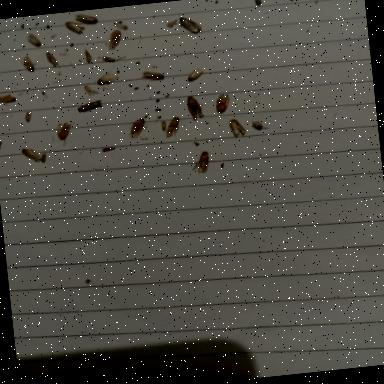pbw: (185, 94, 204, 122), (190, 150, 210, 176), (178, 15, 202, 36), (101, 28, 122, 52), (21, 146, 47, 164), (162, 115, 182, 138), (126, 117, 146, 140), (213, 92, 232, 114), (95, 69, 120, 85), (64, 19, 86, 36), (228, 118, 246, 138), (76, 99, 103, 112), (56, 120, 73, 140), (74, 12, 98, 26), (140, 69, 164, 82), (100, 52, 126, 63), (19, 54, 34, 73), (44, 51, 60, 68), (26, 32, 42, 48), (186, 68, 204, 82), (0, 92, 16, 105), (82, 48, 92, 64), (24, 110, 32, 122), (0, 137, 3, 153)
